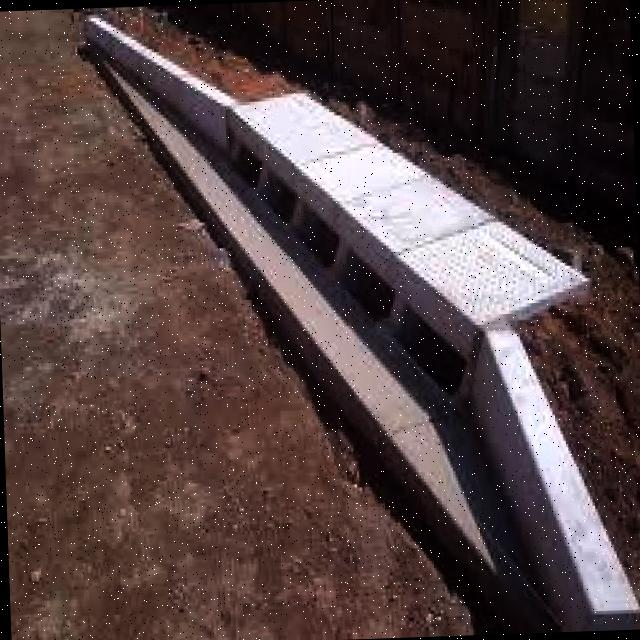curb: (397, 312, 634, 639), (246, 101, 461, 451), (79, 11, 235, 213)
